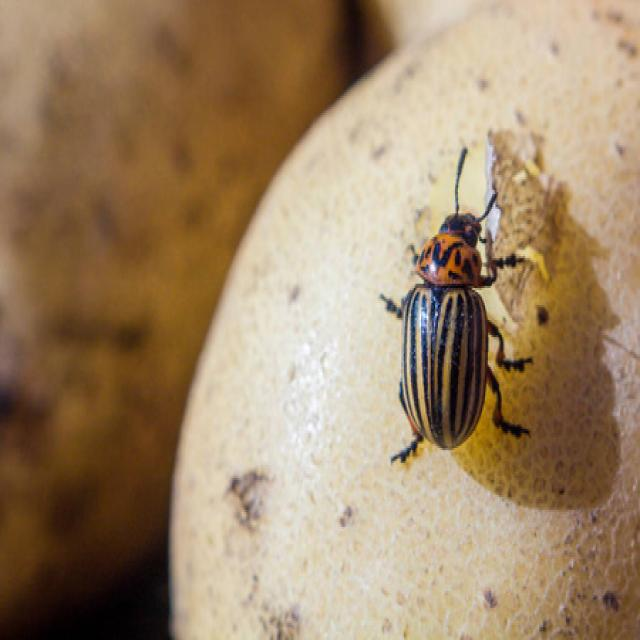ShuCaiHuaBanChong-Grown-: (368, 190, 529, 467)
